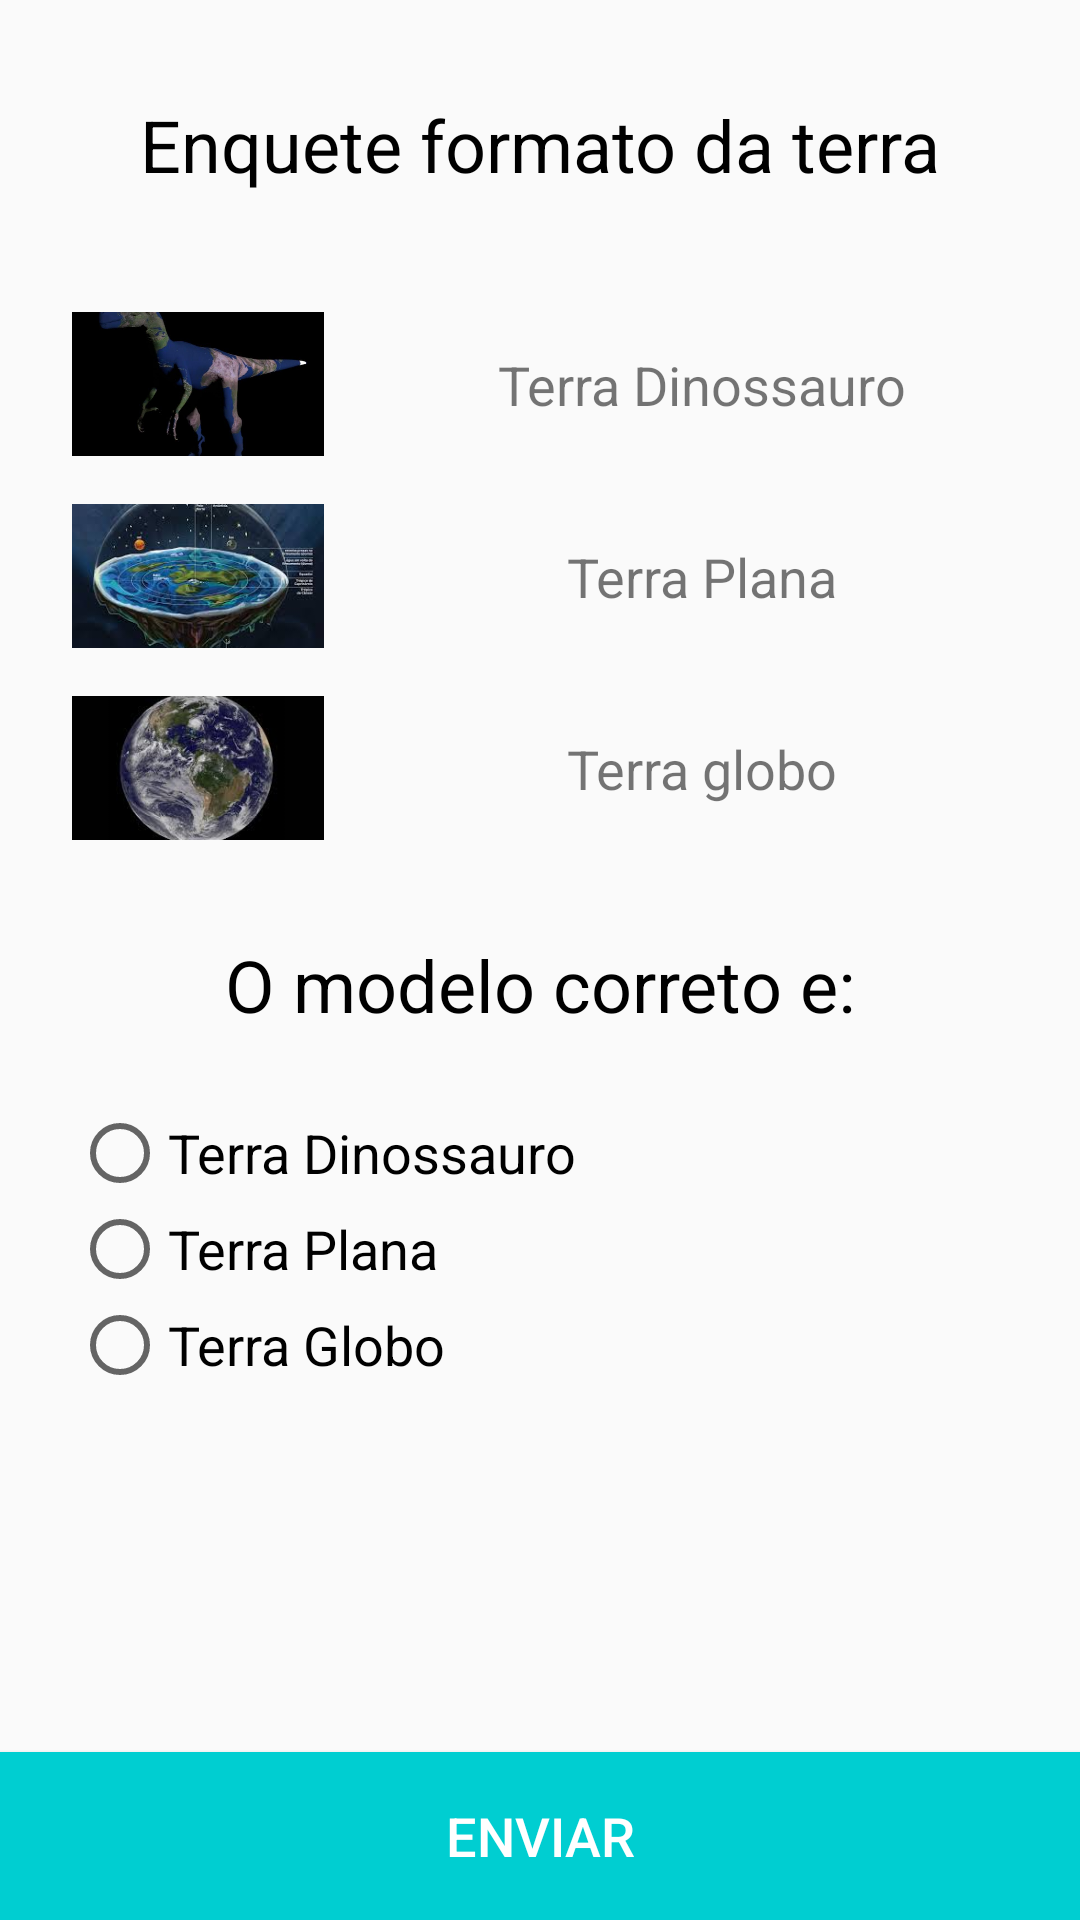

Locate icon controls on the screen. Image size 1080px x 1920px, boxes as (x1, y1, x2, y2).
terra dinossauro: (72, 312, 324, 456)
terra globo: (72, 696, 324, 840)
terra plana: (72, 504, 324, 648)
